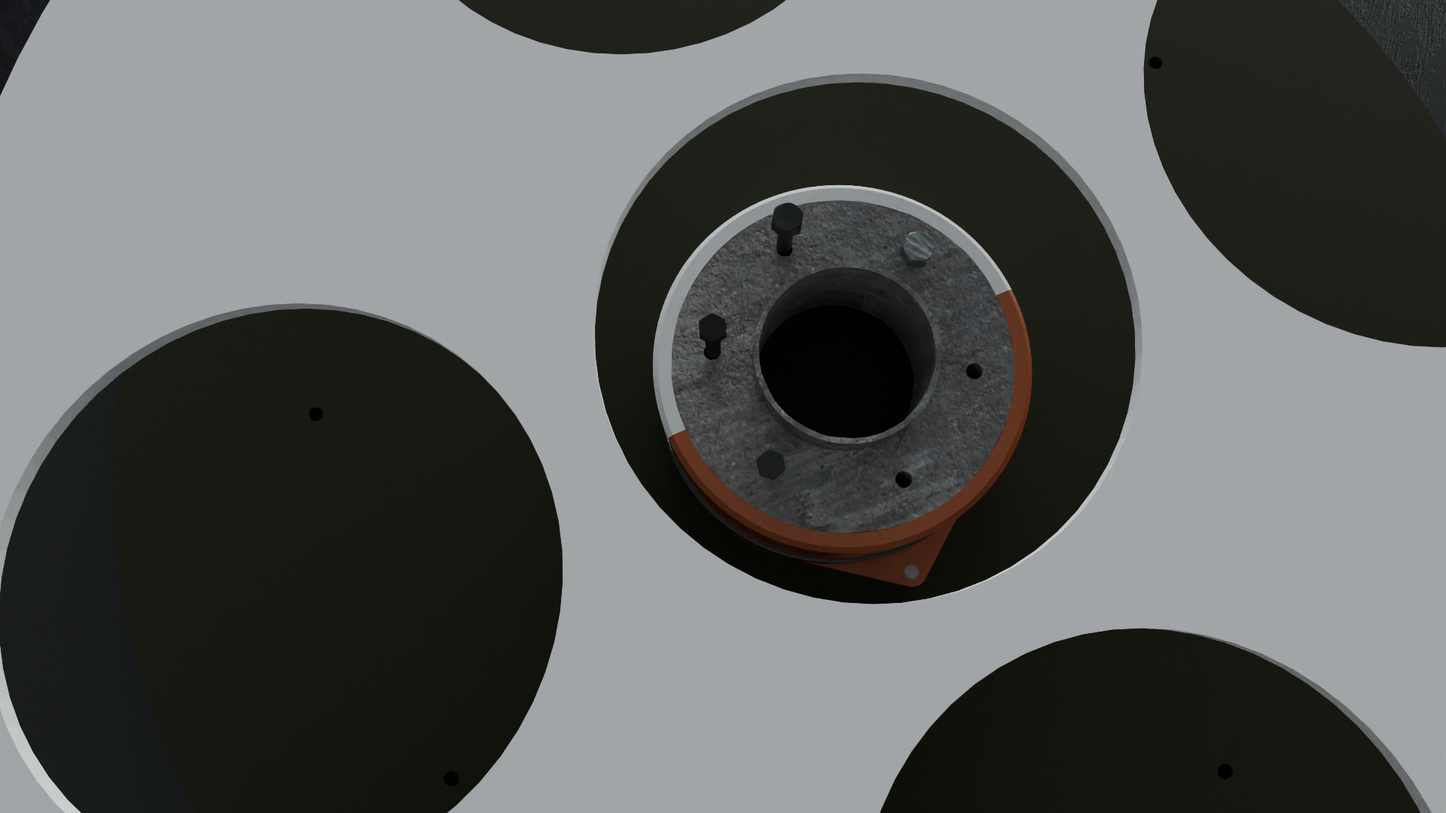bolt: (901, 232, 936, 263), (772, 202, 804, 234), (757, 449, 786, 479), (699, 313, 727, 343)
